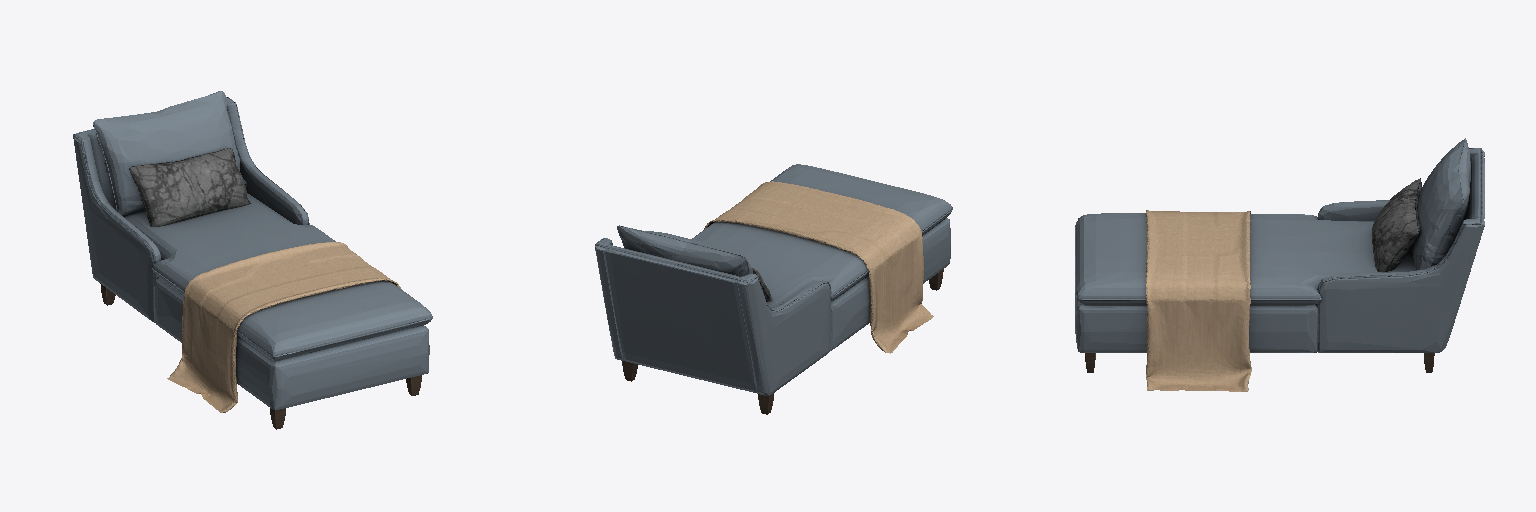
3 renders of one model, left to right at view 1: azimuth 30°, elevation 25°; view 2: azimuth 150°, elevation 25°; view 3: azimuth 270°, elevation 25°, orthographic.
Parts seen in each view (by area): view 1: solid_001, solid_003, solid_004, solid_002; view 2: solid_001, solid_003, solid_002; view 3: solid_001, solid_003, solid_004.
Boxes of the visible parts, <box> form: solid_001: <box>73,91,432,410</box>; solid_003: <box>167,242,400,412</box>; solid_004: <box>129,148,250,226</box>; solid_002: <box>100,283,421,429</box>; solid_001: <box>595,164,952,395</box>; solid_003: <box>704,181,933,353</box>; solid_002: <box>622,269,943,414</box>; solid_001: <box>1075,138,1484,352</box>; solid_003: <box>1146,210,1251,391</box>; solid_004: <box>1372,178,1421,271</box>.
Bounding box in the file's own units: 1.14 × 0.87 × 1.91.
1 materials, 1 textured.